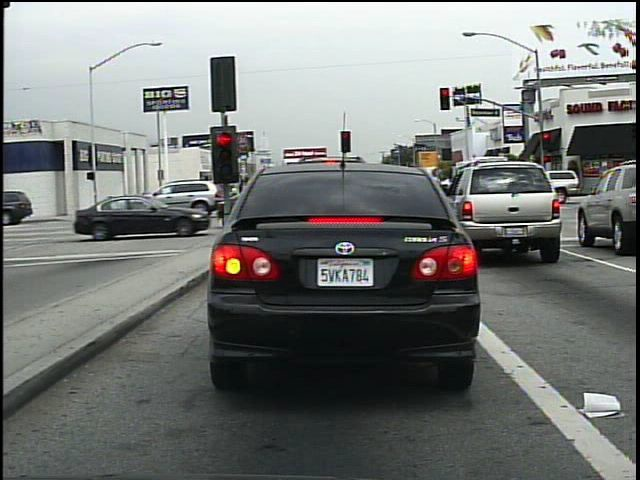person: (195, 177, 218, 216)
